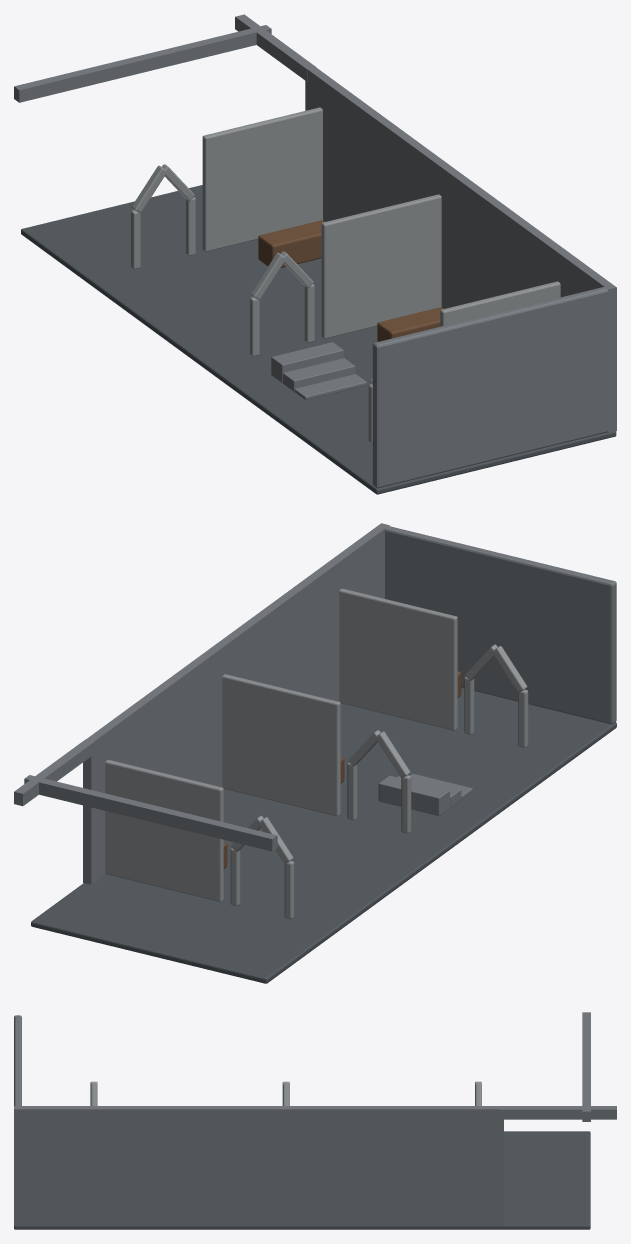
The model's file is south-wing.glb.
The picture shows the model from 3 angles, top to bottom: view 1: azimuth 30°, elevation 25°; view 2: azimuth 150°, elevation 25°; view 3: azimuth 270°, elevation 25°; orthographic projection. The views are drawn at different scales.
Parts seen in each view (by area): view 1: VIS_SOUTH_WING_FLOOR, VIS_SOUTH_WING_FRONT_WALL, VIS_SOUTH_WING_OUTER_WALL_B, VIS_SOUTH_WING_ROOM_DIVIDER_-21, VIS_SOUTH_WING_ROOM_DIVIDER_-9, VIS_SOUTH_WING_REAR_WALL_LINTEL, VIS_SOUTH_WING_ROOM_DIVIDER_3, VIS_SOUTH_WING_TABLE_-21, VIS_SOUTH_WING_OUTER_WALL_LINTEL, NO_SHADOW_SOUTH_WING_STAIR_09, NO_SHADOW_SOUTH_WING_STAIR_10, VIS_SOUTH_WING_TABLE_-9 (+1 smaller); view 2: VIS_SOUTH_WING_FLOOR, VIS_SOUTH_WING_FRONT_WALL, VIS_SOUTH_WING_OUTER_WALL_B, VIS_SOUTH_WING_ROOM_DIVIDER_-9, VIS_SOUTH_WING_ROOM_DIVIDER_3, VIS_SOUTH_WING_ROOM_DIVIDER_-21, VIS_SOUTH_WING_REAR_WALL_LINTEL, NO_SHADOW_SOUTH_WING_STAIR_09, VIS_SOUTH_WING_OUTER_WALL_LINTEL, VIS_SOUTH_WING_ROOM_ARCH_-21_L, VIS_SOUTH_WING_ROOM_ARCH_-9_L, VIS_SOUTH_WING_ROOM_ARCH_3_L; view 3: VIS_SOUTH_WING_OUTER_WALL_B, VIS_SOUTH_WING_FLOOR, VIS_SOUTH_WING_OUTER_WALL_LINTEL, VIS_SOUTH_WING_FRONT_WALL, VIS_SOUTH_WING_REAR_WALL_LINTEL.
Boxes of the visible parts, box(x1,y1,x2,y2) form: VIS_SOUTH_WING_FLOOR: box(21, 185, 616, 494); VIS_SOUTH_WING_FRONT_WALL: box(372, 285, 614, 488); VIS_SOUTH_WING_OUTER_WALL_B: box(305, 65, 616, 432); VIS_SOUTH_WING_ROOM_DIVIDER_-21: box(202, 107, 322, 251); VIS_SOUTH_WING_ROOM_DIVIDER_-9: box(321, 194, 441, 338); VIS_SOUTH_WING_REAR_WALL_LINTEL: box(14, 25, 271, 102); VIS_SOUTH_WING_ROOM_DIVIDER_3: box(440, 281, 560, 326); VIS_SOUTH_WING_TABLE_-21: box(258, 220, 324, 267); VIS_SOUTH_WING_OUTER_WALL_LINTEL: box(235, 14, 316, 81); NO_SHADOW_SOUTH_WING_STAIR_09: box(271, 342, 343, 383); NO_SHADOW_SOUTH_WING_STAIR_10: box(283, 358, 355, 391); VIS_SOUTH_WING_TABLE_-9: box(377, 307, 443, 341); VIS_SOUTH_WING_FLOOR: box(31, 688, 616, 983); VIS_SOUTH_WING_FRONT_WALL: box(380, 524, 616, 724); VIS_SOUTH_WING_OUTER_WALL_B: box(83, 523, 389, 884); VIS_SOUTH_WING_ROOM_DIVIDER_-9: box(222, 674, 340, 816); VIS_SOUTH_WING_ROOM_DIVIDER_3: box(339, 588, 457, 730); VIS_SOUTH_WING_ROOM_DIVIDER_-21: box(105, 759, 223, 901); VIS_SOUTH_WING_REAR_WALL_LINTEL: box(24, 775, 277, 851); NO_SHADOW_SOUTH_WING_STAIR_09: box(378, 775, 449, 815); VIS_SOUTH_WING_OUTER_WALL_LINTEL: box(14, 739, 94, 806); VIS_SOUTH_WING_ROOM_ARCH_-21_L: box(284, 861, 294, 919); VIS_SOUTH_WING_ROOM_ARCH_-9_L: box(401, 775, 411, 833); VIS_SOUTH_WING_ROOM_ARCH_3_L: box(518, 689, 528, 747); VIS_SOUTH_WING_OUTER_WALL_B: box(14, 1106, 503, 1225); VIS_SOUTH_WING_FLOOR: box(14, 1131, 590, 1229); VIS_SOUTH_WING_OUTER_WALL_LINTEL: box(500, 1106, 616, 1119); VIS_SOUTH_WING_FRONT_WALL: box(14, 1015, 21, 1223); VIS_SOUTH_WING_REAR_WALL_LINTEL: box(582, 1012, 590, 1121).
Size of the model in its own units: 14.7 by 8.32 by 37.65.
